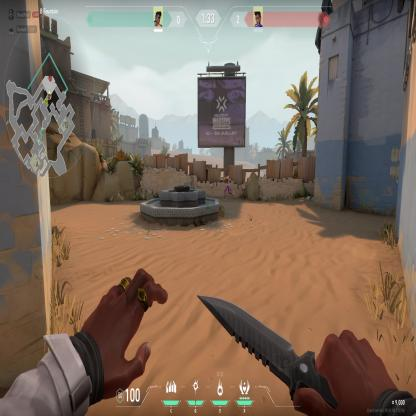enemy: (223, 171, 234, 201)
